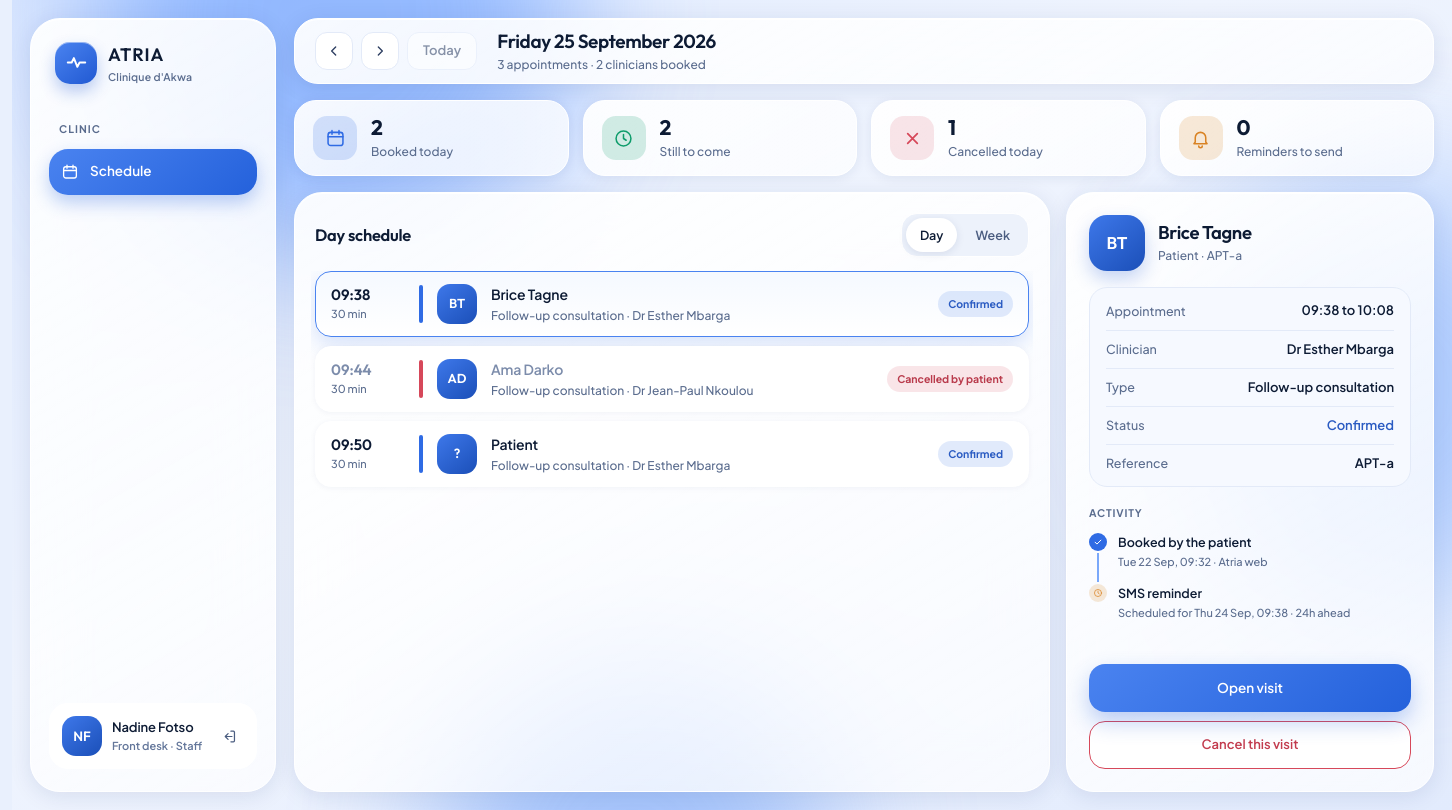
Test: Day schedule › moves a day at a time, and back to today
Check: the list named "Appointments" is shown, box [315,271,1029,487]
Click the button named "Next day". click: click(380, 51)
box: [361,32,399,70]
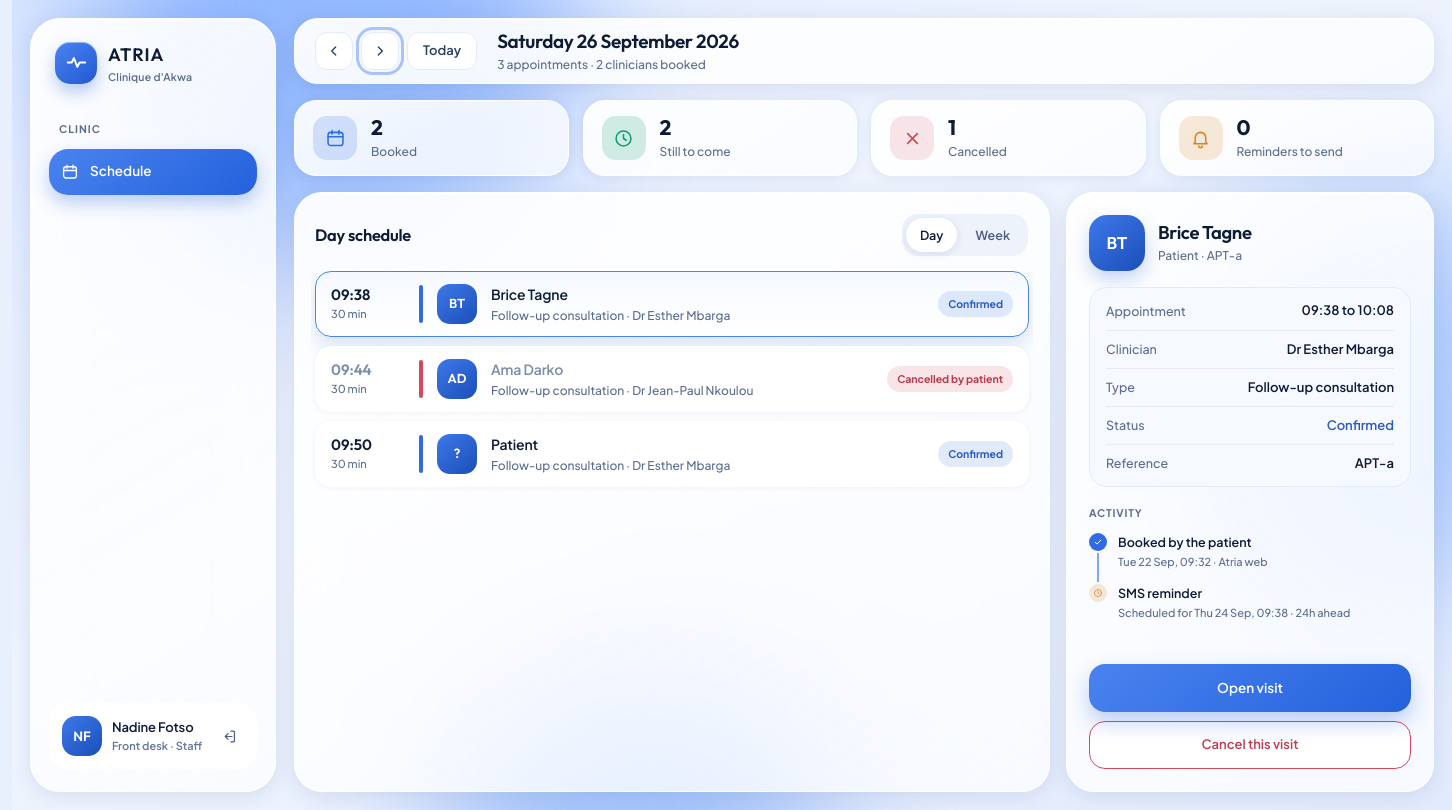
Click the button "Today". click: click(442, 51)
box: [407,32,477,70]
(page scrolled)
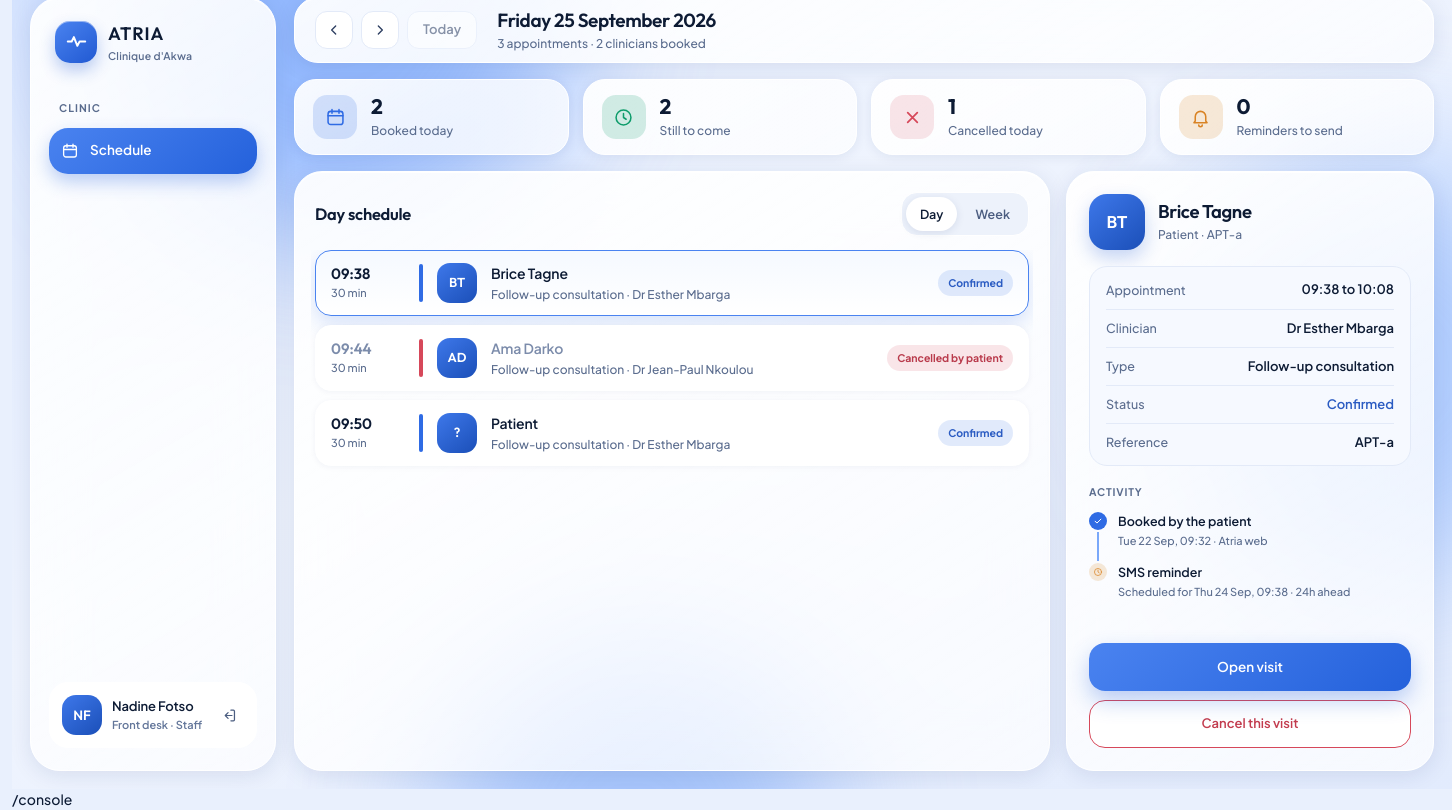
Check: the text with test id "where" reads "/console", box [12,790,72,808]
